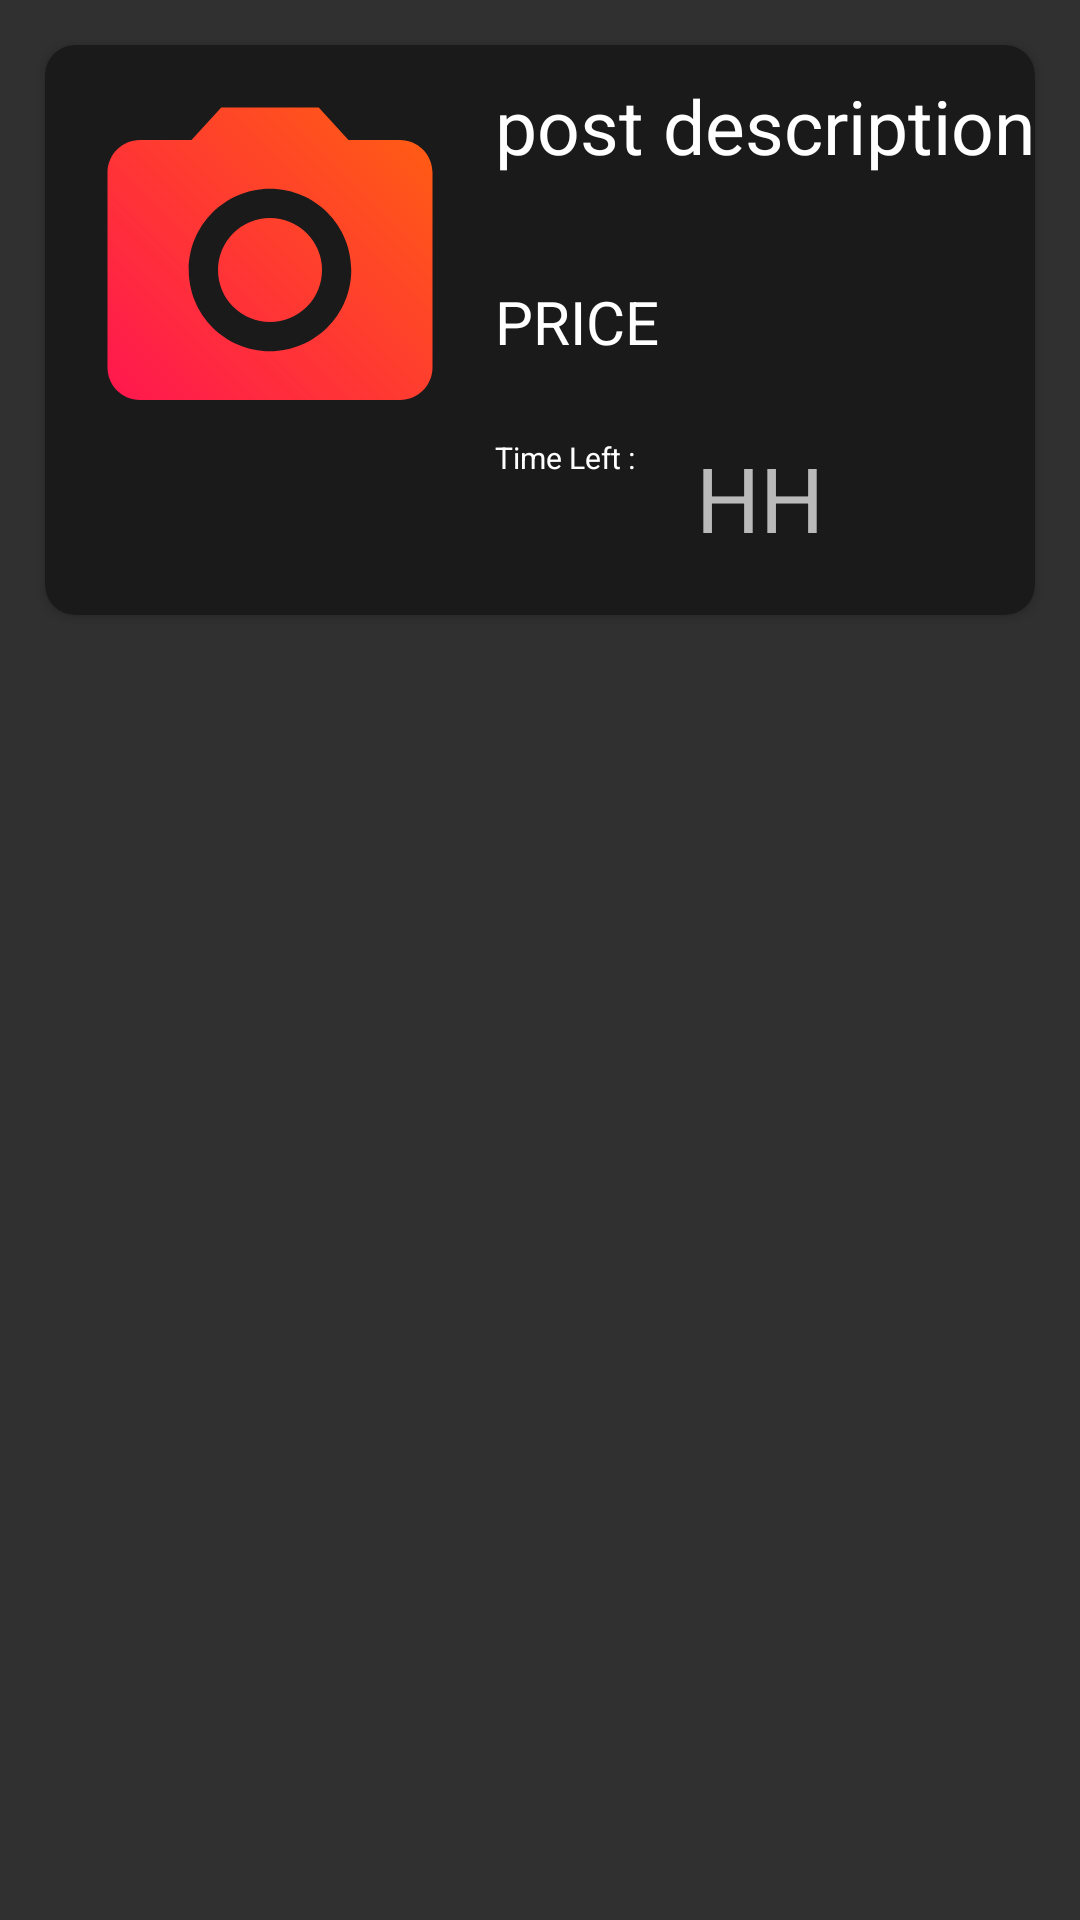

Named icons in this screenshot (1080w x 1920h) and their bounding boxes, (x1, y1, x2, y2):
camera: (107, 107, 433, 400)
